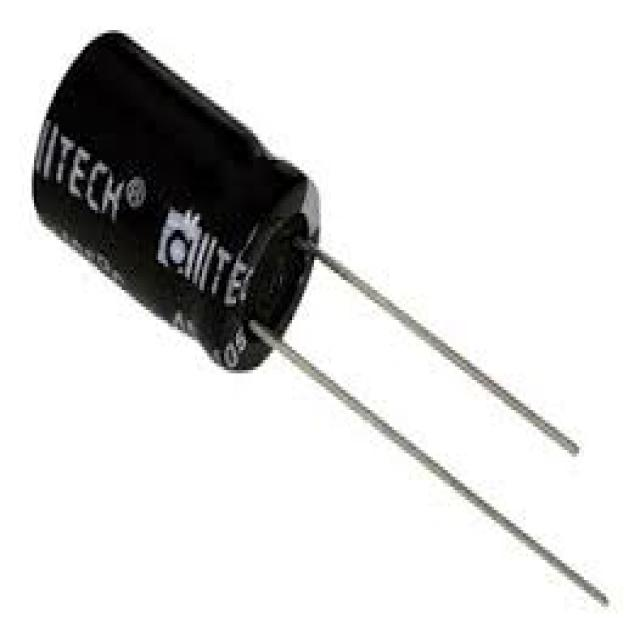Capacitor: (29, 30, 611, 607)
